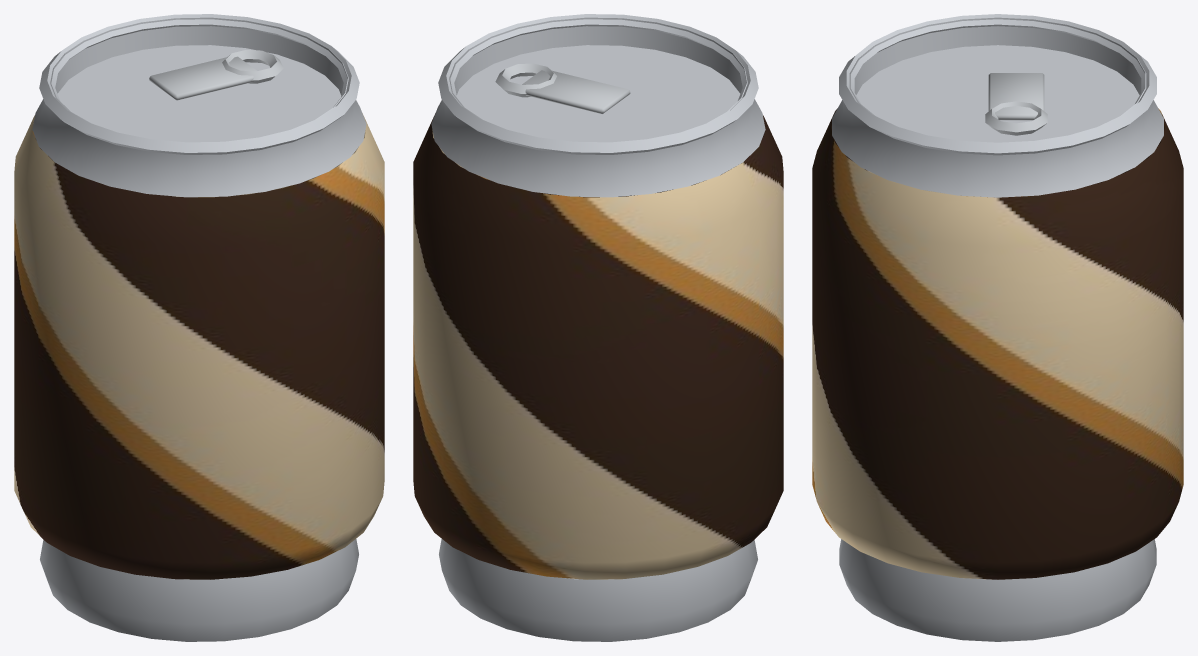
File: can_cold_brew.glb
3 renders of one model, left to right at view 1: azimuth 30°, elevation 25°; view 2: azimuth 150°, elevation 25°; view 3: azimuth 270°, elevation 25°, orthographic.
Parts seen in each view (by area): view 1: can_cold_brew; view 2: can_cold_brew; view 3: can_cold_brew.
Part boxes in pixels (x1,y1,x2,y2): can_cold_brew: [14, 14, 384, 641]; can_cold_brew: [413, 14, 783, 641]; can_cold_brew: [812, 14, 1183, 641].
Bounding box in the file's own units: 0.065 × 0.0964 × 0.065.
Materials: 4 (1 with a texture image).
